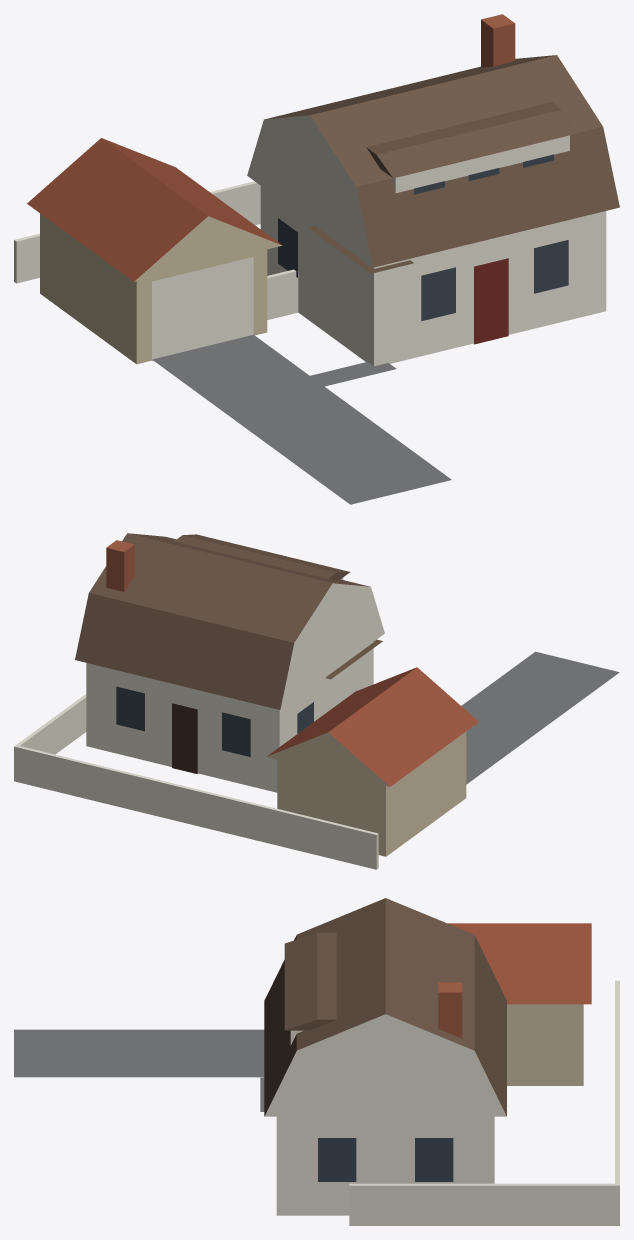
Rendered from house_c_far.glb.
The picture shows the model from 3 angles, top to bottom: view 1: azimuth 30°, elevation 25°; view 2: azimuth 150°, elevation 25°; view 3: azimuth 270°, elevation 25°; orthographic projection. The views are drawn at different scales.
Parts seen in each view (by area): view 1: house_c_far; view 2: house_c_far; view 3: house_c_far.
Part boxes in pixels (x1,y1,x2,y2): house_c_far: (14, 14, 619, 504); house_c_far: (14, 533, 619, 869); house_c_far: (14, 898, 619, 1225).
Bounding box in the file's own units: 12.05 × 6 × 15.
